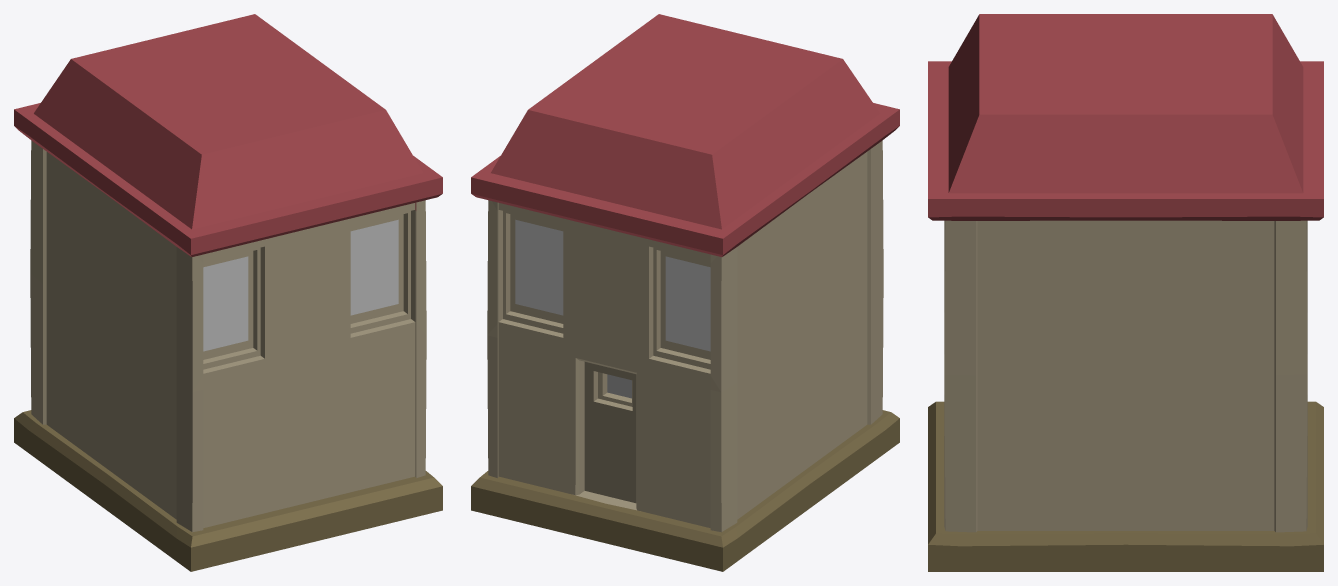
File: house heel texture.fbx
The picture shows the model from 3 angles, left to right: view 1: azimuth 30°, elevation 25°; view 2: azimuth 150°, elevation 25°; view 3: azimuth 270°, elevation 25°; orthographic projection. The views are drawn at different scales.
Visible parts, largest first — view 1: polySurface9; view 2: polySurface9; view 3: polySurface9.
Boxes of the visible parts, x1,y1,x2,y2 form: polySurface9: [14, 14, 442, 571]; polySurface9: [471, 14, 899, 571]; polySurface9: [928, 14, 1323, 571].
Size of the model in its own units: 9.66 by 14.36 by 11.74.
